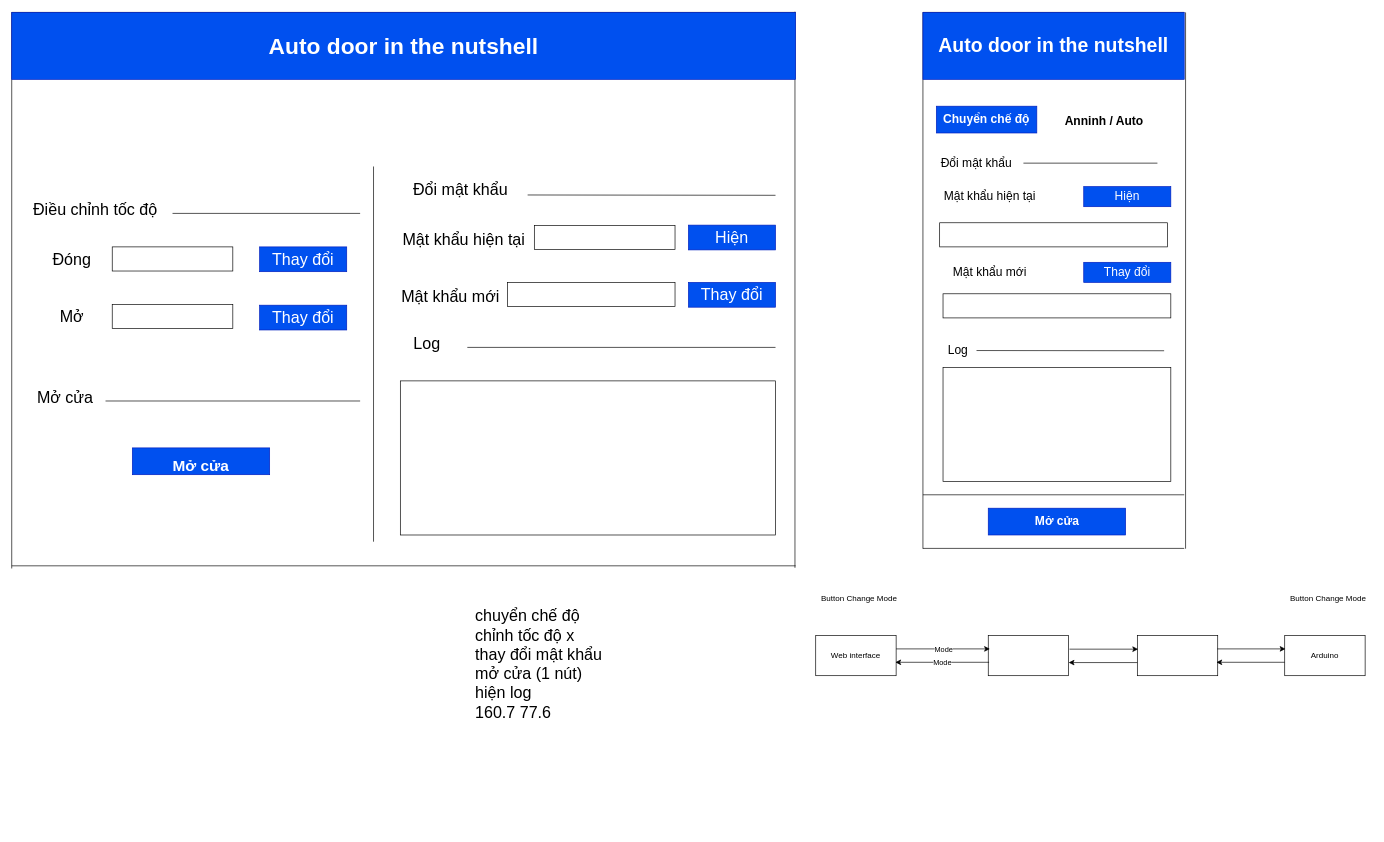
The diagram is 1384 pixels wide and 842 high, and some of its shapes have lost their labels. Here are the shapes that lost their labels. From the top down, the centre of each, then its label:
the point at 1028,655: Server
the point at 1177,655: ESP8266
